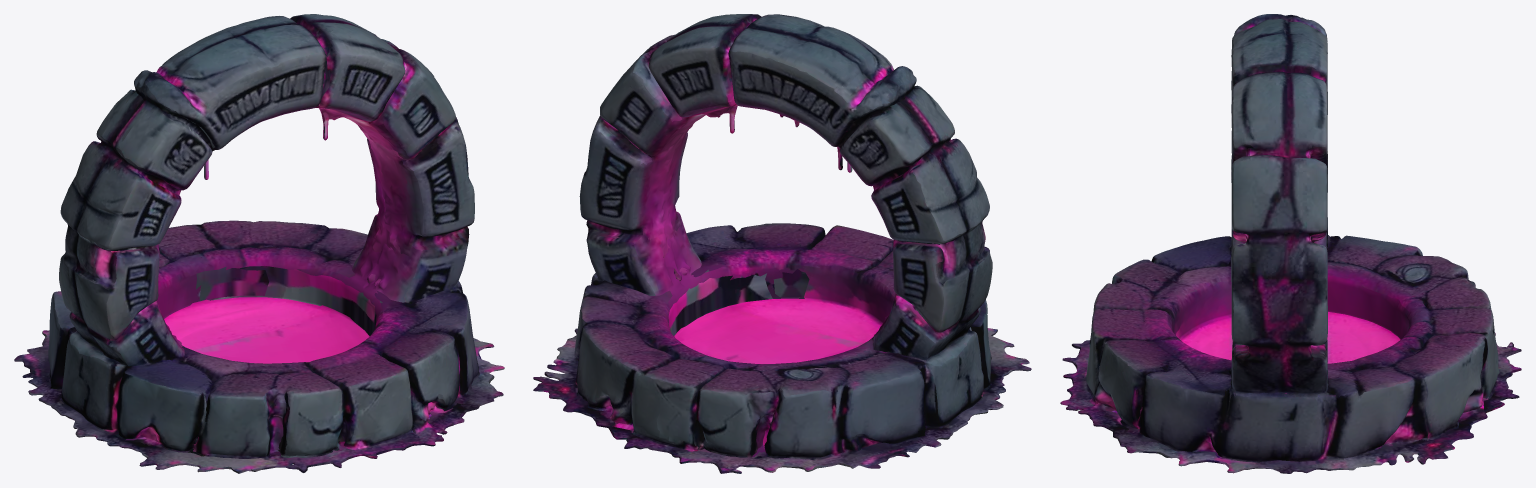
The model's file is hvergelmir-basin-ring-generated-2026-05-17T18-10-36-665Z.medium.glb.
The picture shows the model from 3 angles, left to right: view 1: azimuth 30°, elevation 25°; view 2: azimuth 150°, elevation 25°; view 3: azimuth 270°, elevation 25°; orthographic projection. The views are drawn at different scales.
Visible parts, largest first — view 1: temp_mesh.ply; view 2: temp_mesh.ply; view 3: temp_mesh.ply.
Boxes of the visible parts, x1=… form: temp_mesh.ply: x1=14, y1=14, x2=504, y2=473; temp_mesh.ply: x1=533, y1=14, x2=1031, y2=473; temp_mesh.ply: x1=1060, y1=14, x2=1521, y2=473.
Size of the model in its own units: 1.95 by 1.58 by 1.97.
1 material, 1 textured.
